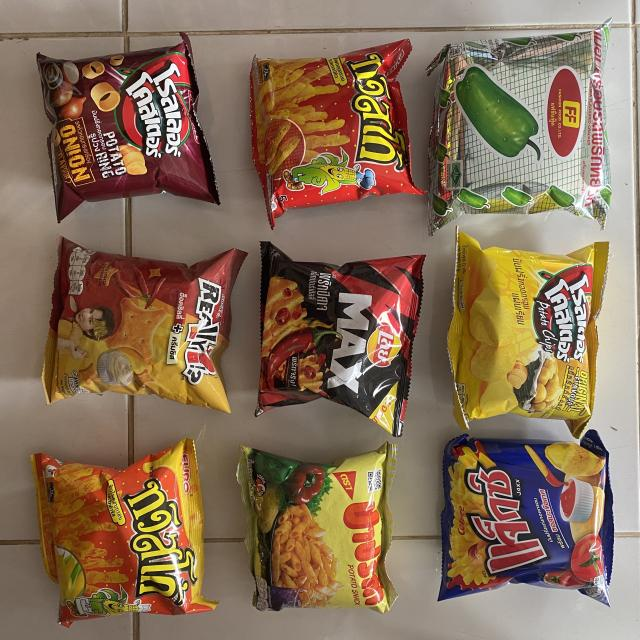plastik: (426, 20, 611, 234), (42, 236, 246, 412), (31, 439, 216, 628), (36, 34, 220, 221), (448, 230, 609, 438), (255, 242, 425, 436), (250, 39, 424, 228), (439, 430, 614, 605), (238, 444, 396, 612)
